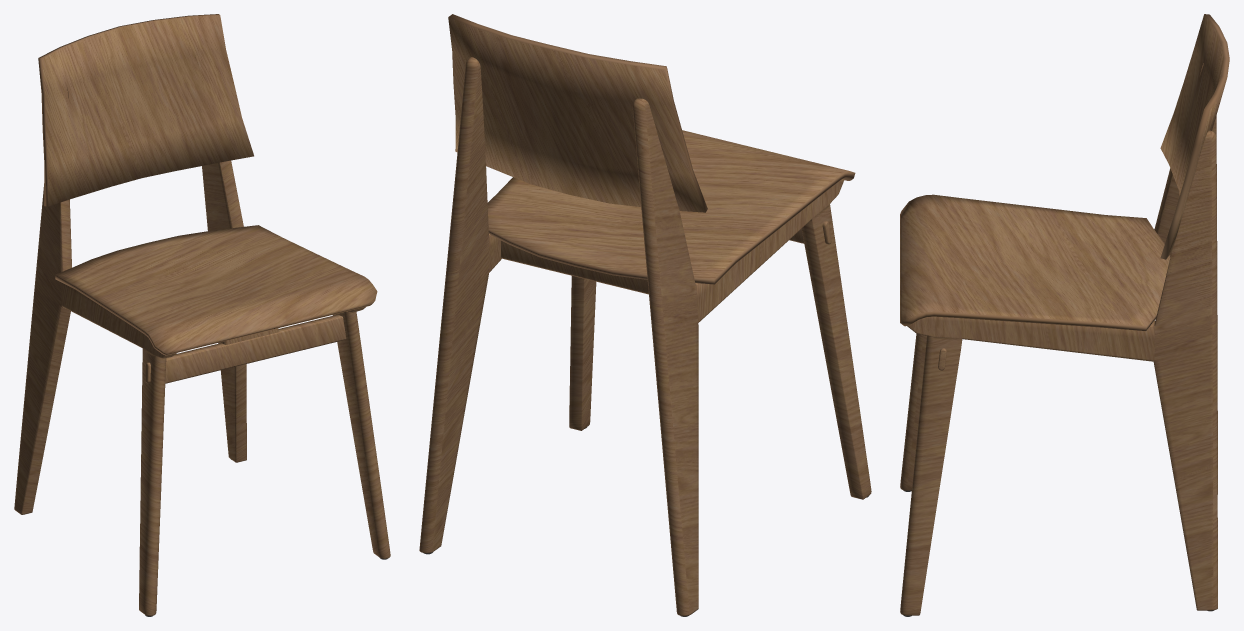
The model's file is chair.glb.
3 renders of one model, left to right at view 1: azimuth 30°, elevation 25°; view 2: azimuth 150°, elevation 25°; view 3: azimuth 270°, elevation 25°, orthographic. The views are drawn at different scales.
Parts seen in each view (by area): view 1: legs.001, back, seat.005; view 2: legs.001, back, seat.005; view 3: legs.001, seat.005, back.
Part boxes in pixels (x1,y1,x2,y2): legs.001: (14, 57, 390, 615); back: (38, 14, 253, 206); seat.005: (55, 225, 377, 355); legs.001: (419, 57, 871, 616); back: (448, 14, 707, 212); seat.005: (487, 130, 855, 284); legs.001: (900, 63, 1217, 615); seat.005: (900, 194, 1170, 330); back: (1160, 14, 1229, 259).
Size of the model in its own units: 0.4548 by 0.8038 by 0.4857.
2 materials, 1 textured.
